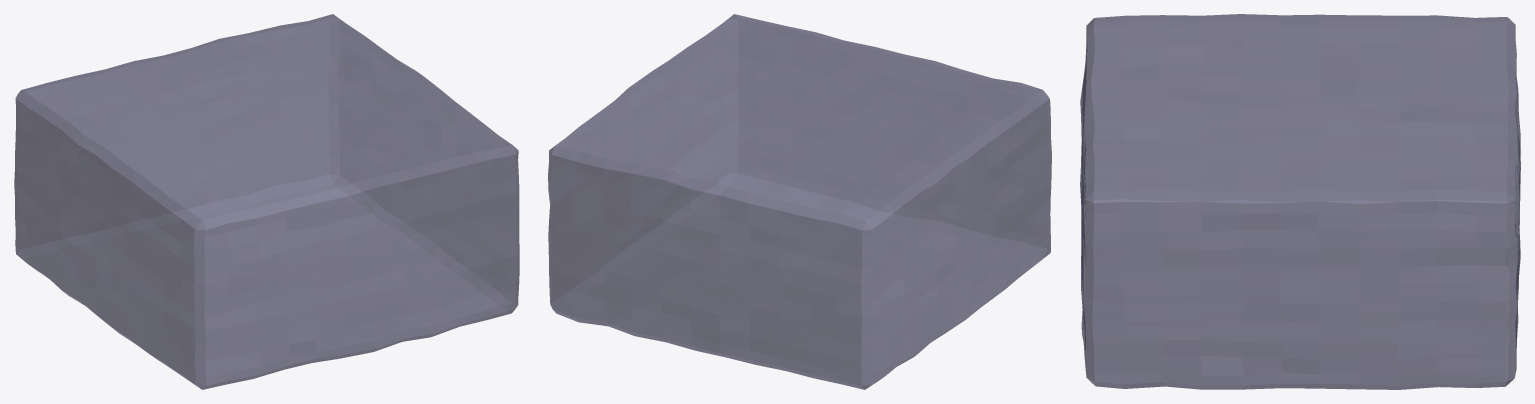
Rendered from weakTile.fbx.
The picture shows the model from 3 angles, left to right: view 1: azimuth 30°, elevation 25°; view 2: azimuth 150°, elevation 25°; view 3: azimuth 270°, elevation 25°; orthographic projection. The views are drawn at different scales.
Visible parts, largest first — view 1: WeakTile; view 2: WeakTile; view 3: WeakTile.
Part boxes in pixels (bbox=[...]): WeakTile: bbox=[14, 14, 519, 389]; WeakTile: bbox=[548, 14, 1051, 389]; WeakTile: bbox=[1080, 14, 1520, 389].
Bounding box in the file's own units: 1.03 × 1.03 × 0.5341.
